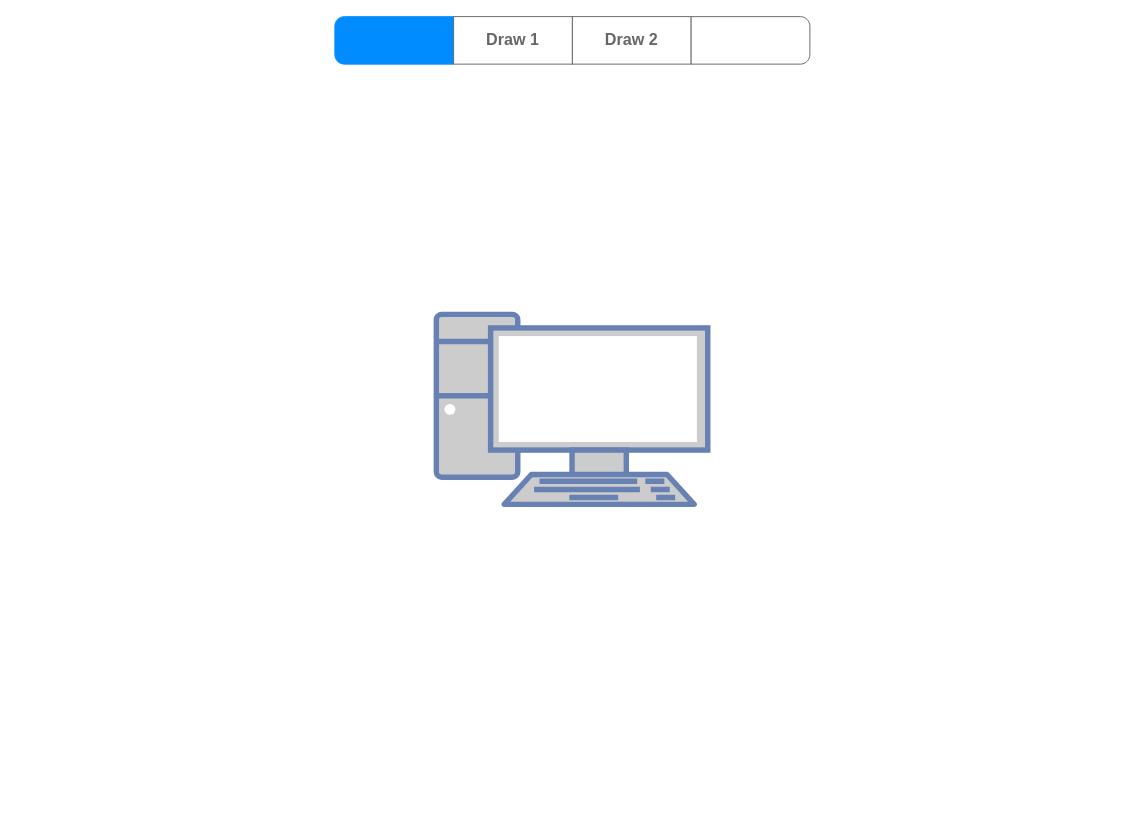
The diagram is 1144 pixels wide and 819 high, and some of its shapes have lost their labels. The box of each missing label's shape, as (x1, y1, x2, y2) in pixels:
Draw 3: (690, 16, 810, 64)
Home: (334, 16, 454, 64)
